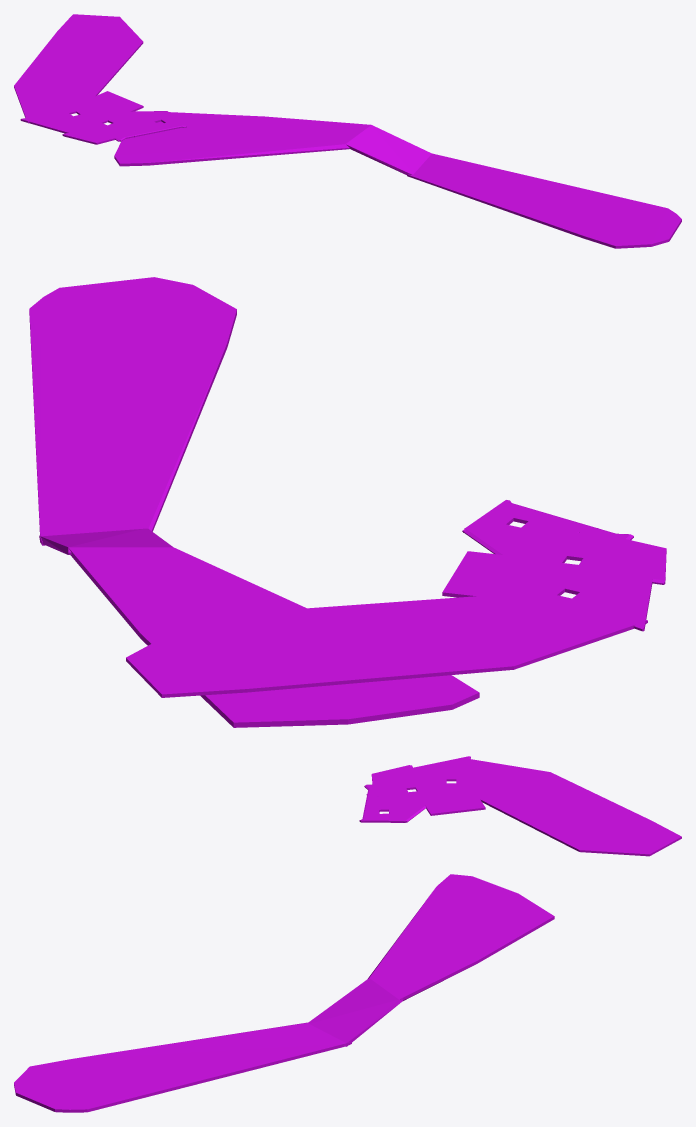
File: 9_holes_hole_6_floors.glb
3 renders of one model, top to bottom at view 1: azimuth 30°, elevation 25°; view 2: azimuth 150°, elevation 25°; view 3: azimuth 270°, elevation 25°, orthographic. The views are drawn at different scales.
Visible parts, largest first — view 1: hole 6 green underground-floor, hole 6 green underground-floor.002, hole 6 floor.001, hole 6 green underground-floor.001, hole 6 floor.005, hole 6 floor.006, hole 6 floor.002, hole 6 floor.007, hole 6 floor.004; view 2: hole 6 green underground-floor, hole 6 floor.001, hole 6 green underground-floor.002, hole 6 floor.005, hole 6 floor.007, hole 6 floor.006, hole 6 floor.002, hole 6 floor.004, hole 6 green underground-floor.001, hole 6 floor.008, hole 6 floor.012; view 3: hole 6 green underground-floor, hole 6 green underground-floor.002, hole 6 floor.001, hole 6 green underground-floor.001, hole 6 floor.005, hole 6 floor.006, hole 6 floor.002, hole 6 floor.007, hole 6 floor.004.
Part boxes in pixels (left/top/right/bottom): hole 6 green underground-floor: left=407, top=153, right=681, bottom=248; hole 6 green underground-floor.002: left=114, top=112, right=370, bottom=166; hole 6 floor.001: left=14, top=14, right=143, bottom=123; hole 6 green underground-floor.001: left=345, top=125, right=431, bottom=174; hole 6 floor.005: left=71, top=91, right=143, bottom=115; hole 6 floor.006: left=62, top=123, right=127, bottom=144; hole 6 floor.002: left=20, top=112, right=74, bottom=133; hole 6 floor.007: left=101, top=111, right=166, bottom=141; hole 6 floor.004: left=73, top=113, right=120, bottom=131; hole 6 green underground-floor: left=29, top=277, right=236, bottom=545; hole 6 floor.001: left=126, top=594, right=647, bottom=697; hole 6 green underground-floor.002: left=68, top=547, right=479, bottom=727; hole 6 floor.005: left=442, top=551, right=564, bottom=601; hole 6 floor.007: left=463, top=528, right=633, bottom=561; hole 6 floor.006: left=579, top=535, right=666, bottom=584; hole 6 floor.002: left=572, top=575, right=652, bottom=631; hole 6 floor.004: left=525, top=562, right=651, bottom=594; hole 6 green underground-floor.001: left=39, top=528, right=172, bottom=554; hole 6 floor.008: left=462, top=528, right=569, bottom=568; hole 6 floor.012: left=499, top=502, right=615, bottom=536; hole 6 green underground-floor: left=14, top=1022, right=351, bottom=1112; hole 6 green underground-floor.002: left=368, top=874, right=554, bottom=1000; hole 6 floor.001: left=456, top=758, right=681, bottom=856; hole 6 green underground-floor.001: left=308, top=978, right=403, bottom=1046; hole 6 floor.005: left=422, top=783, right=485, bottom=815; hole 6 floor.006: left=371, top=765, right=419, bottom=791; hole 6 floor.002: left=406, top=756, right=470, bottom=781; hole 6 floor.007: left=364, top=784, right=410, bottom=821; hole 6 floor.004: left=405, top=769, right=446, bottom=799.
Bounding box in the file's own units: 34.45 × 5.82 × 37.08.
